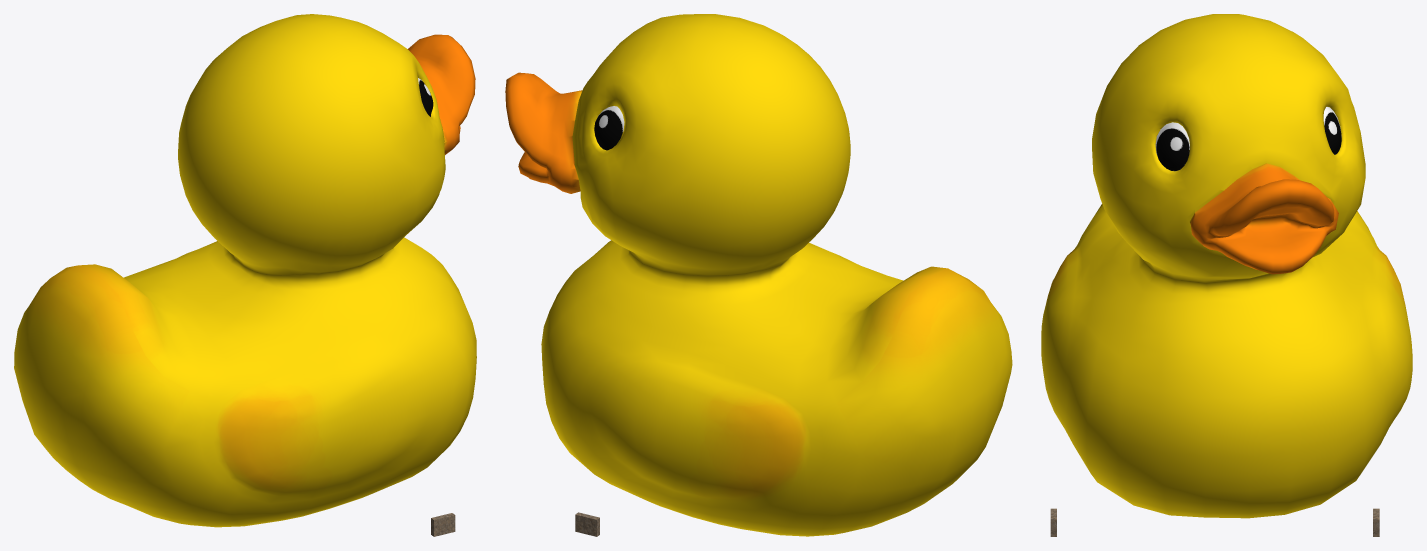
Rendered from duckWithWalls.dae.
The picture shows the model from 3 angles, left to right: view 1: azimuth 30°, elevation 25°; view 2: azimuth 150°, elevation 25°; view 3: azimuth 270°, elevation 25°; orthographic projection. The views are drawn at different scales.
Parts seen in each view (by area): view 1: LOD3sp; view 2: LOD3sp; view 3: LOD3sp.
Part boxes in pixels (<box>): LOD3sp: <box>14,14,476,527</box>; LOD3sp: <box>505,14,1012,536</box>; LOD3sp: <box>1041,14,1412,518</box>.
Size of the model in its own units: 165 by 164 by 115.
